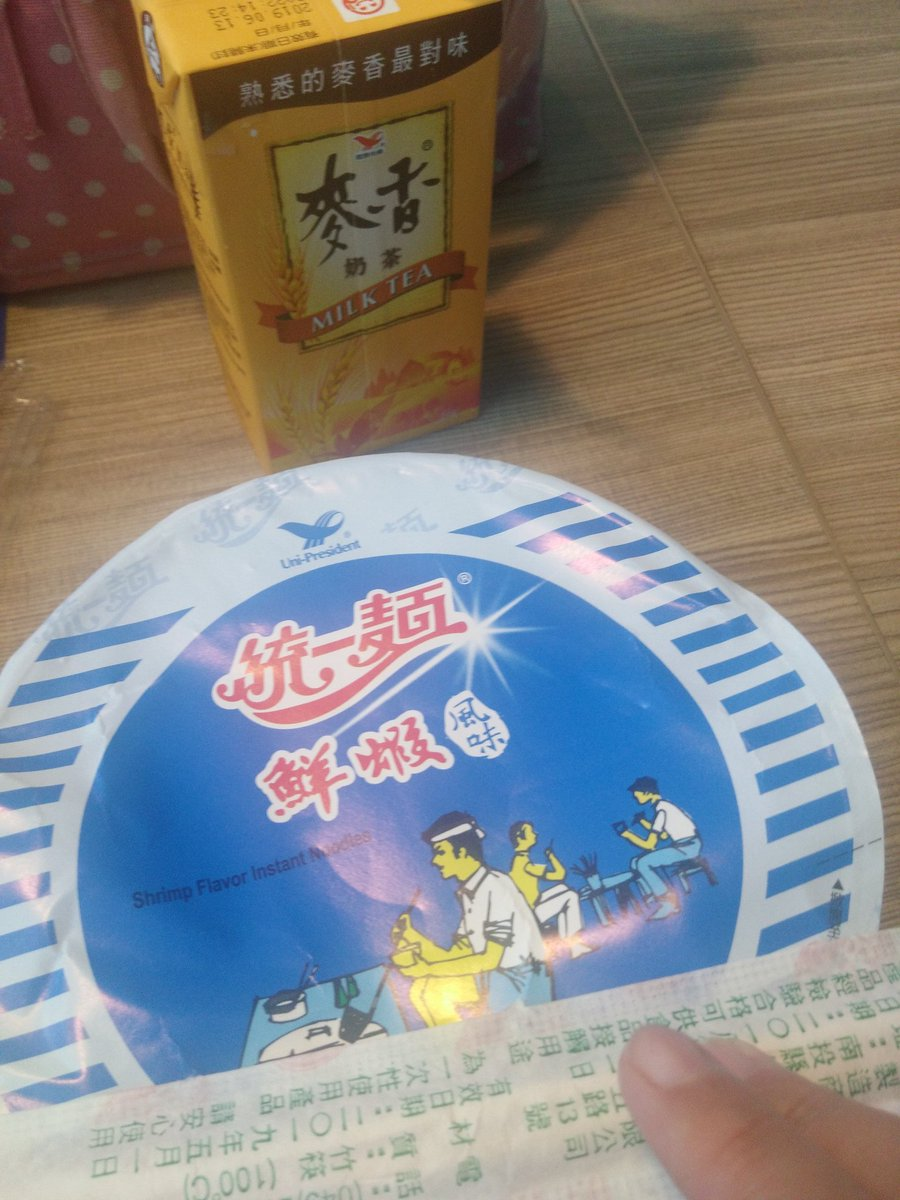milk tea: (136, 4, 489, 445)
